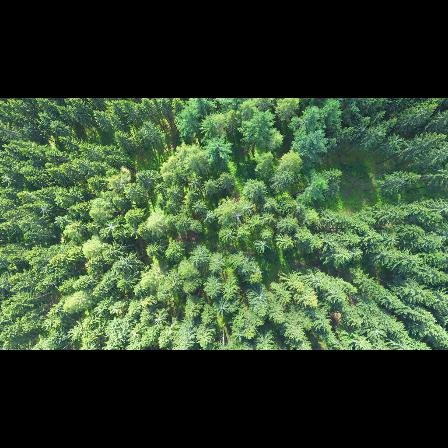Sick: (252, 289, 269, 307), (101, 221, 118, 237), (369, 326, 386, 342), (253, 238, 272, 252), (214, 302, 230, 318), (37, 203, 54, 214), (203, 211, 216, 224), (231, 212, 245, 224)
